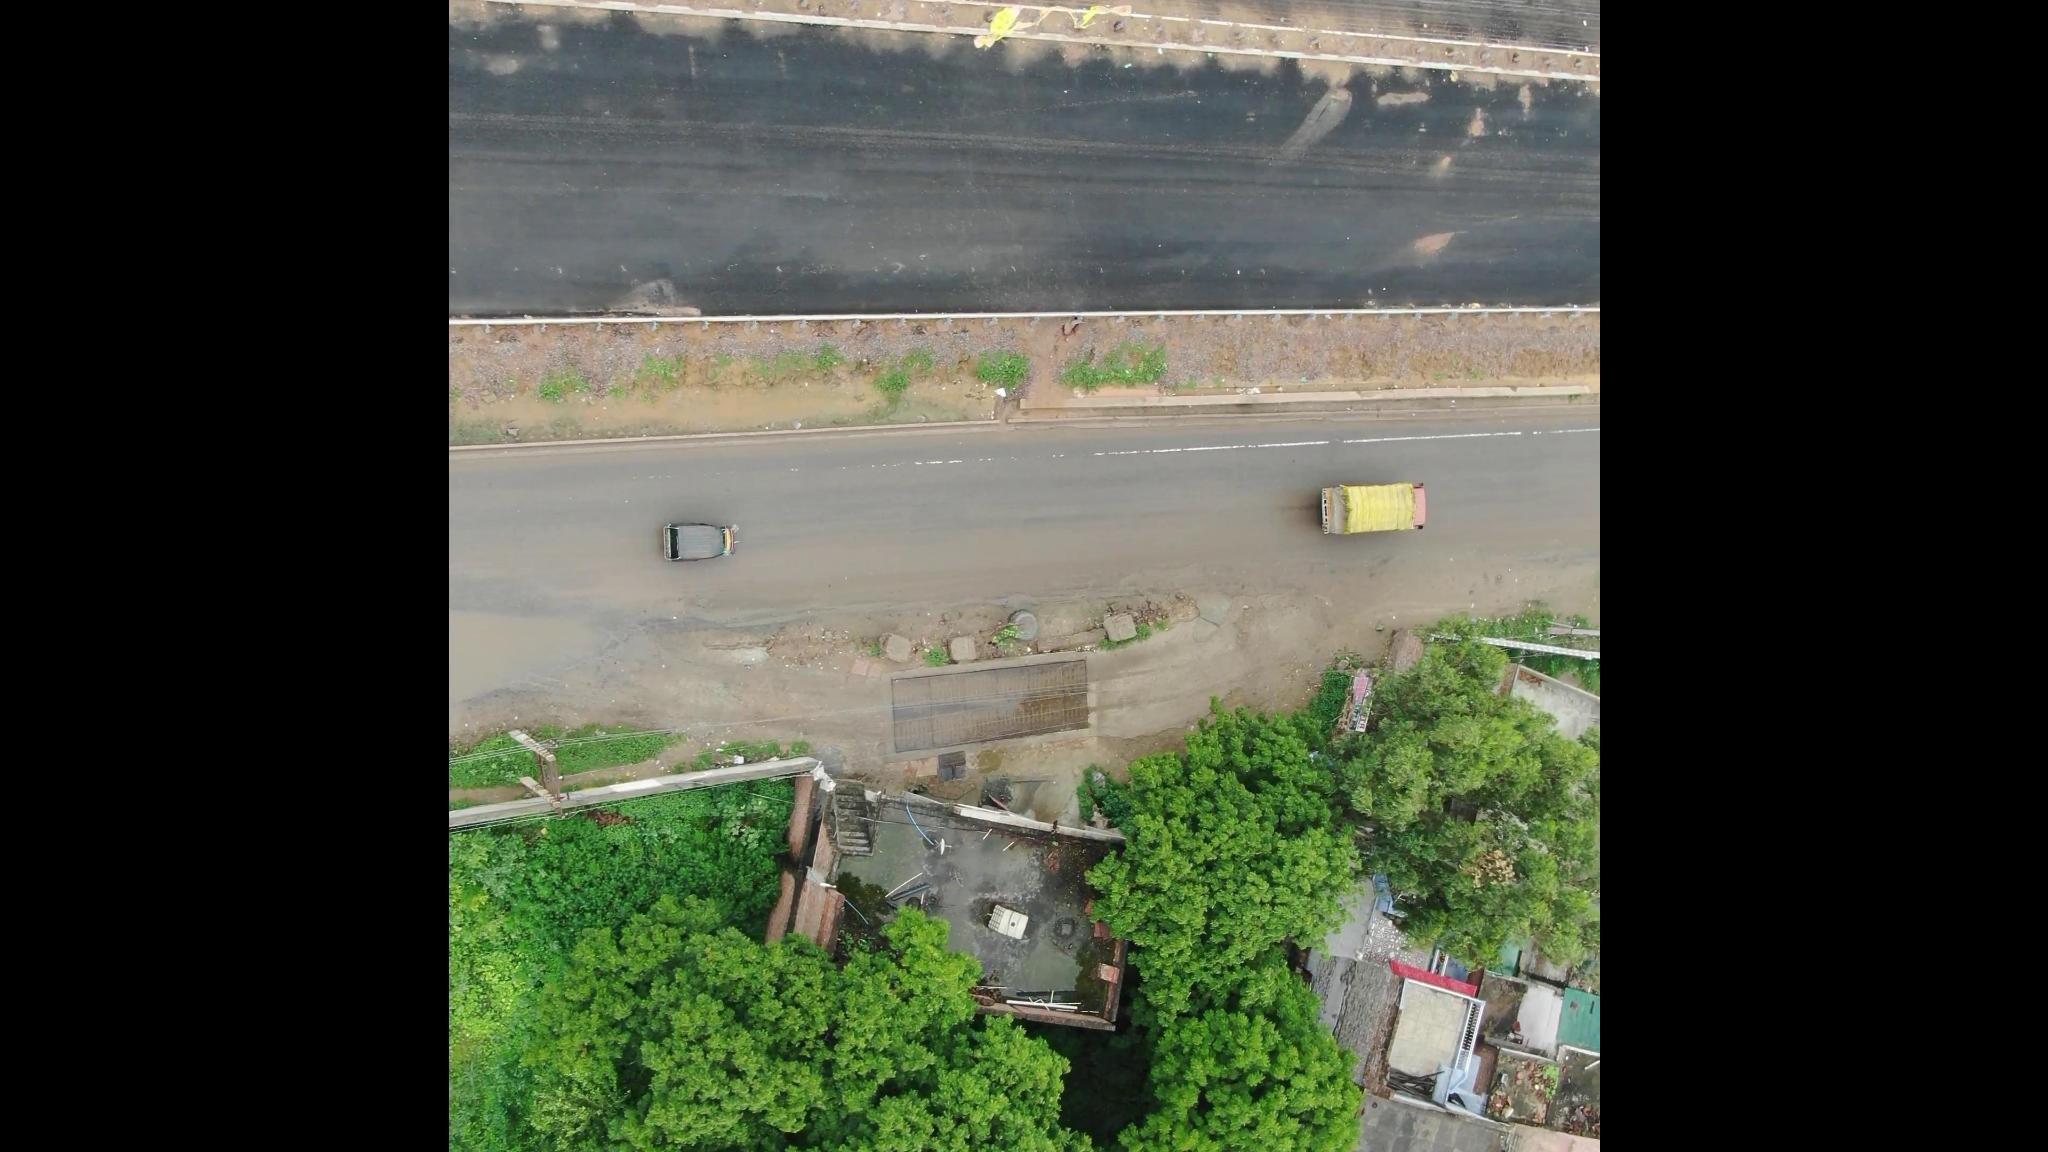Waterlogging: (491, 632, 823, 736)
